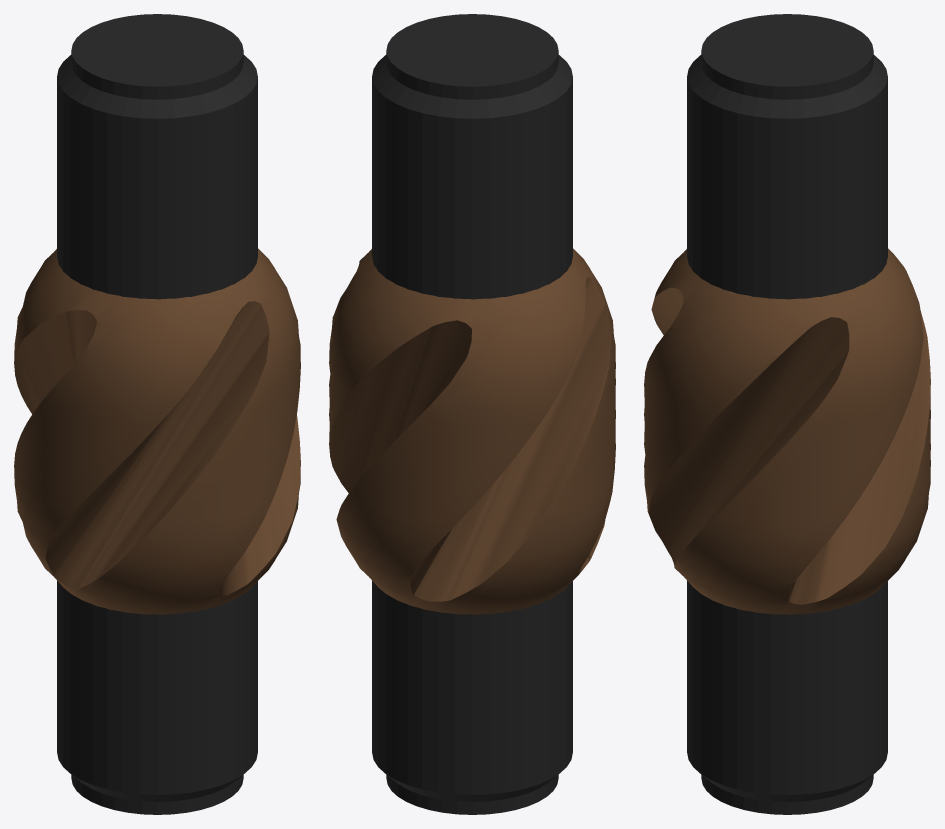
Rendered from bha-2.dae.
3 views of the same model, side by side, from view 1: azimuth 30°, elevation 25°; view 2: azimuth 150°, elevation 25°; view 3: azimuth 270°, elevation 25° (orthographic).
Parts seen in each view (by area): view 1: Cylinder.1 (×2), Capsule, Cylinder.2, Cylinder.3, Cylinder.4; view 2: Capsule, Cylinder.1, Cylinder.2, Cylinder.3, Cylinder; view 3: Capsule, Cylinder.1 (×2), Cylinder.2, Cylinder.4, Cylinder.
Boxes of the visible parts, x1,y1,x2,y2 form: Cylinder.1 (×2): (45, 14, 269, 588); Capsule: (14, 248, 300, 614); Cylinder.2: (57, 581, 257, 814); Cylinder.3: (14, 310, 96, 413); Cylinder.4: (218, 415, 300, 595); Capsule: (329, 248, 615, 614); Cylinder.1: (372, 14, 572, 299); Cylinder.2: (372, 581, 572, 814); Cylinder.3: (410, 277, 610, 601); Cylinder: (329, 320, 471, 492); Capsule: (644, 248, 930, 614); Cylinder.1 (×2): (651, 14, 887, 335); Cylinder.2: (687, 581, 887, 814); Cylinder.4: (649, 317, 849, 565); Cylinder: (788, 311, 930, 604).
Bounding box in the file's own units: 200 × 560 × 200.
